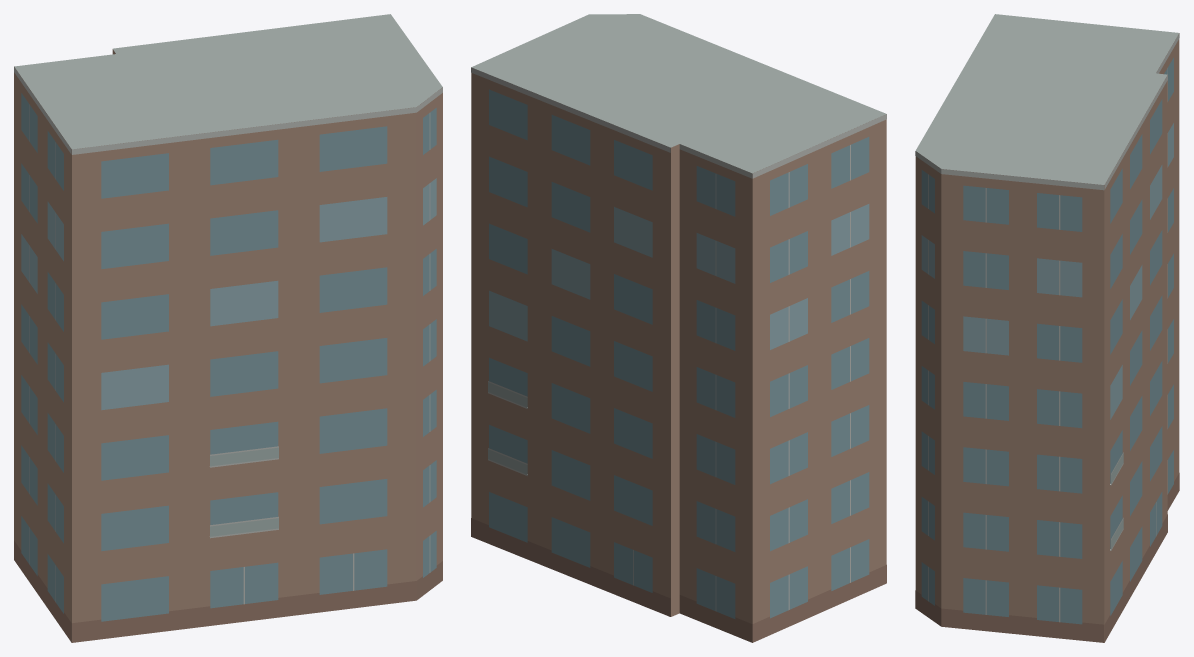
Rendered from survey-upis-32940148.glb.
3 views of the same model, side by side, from view 1: azimuth 30°, elevation 25°; view 2: azimuth 150°, elevation 25°; view 3: azimuth 270°, elevation 25° (orthographic). The views are drawn at different scales.
Parts seen in each view (by area): view 1: survey-upis-32940148.tmp; view 2: survey-upis-32940148.tmp; view 3: survey-upis-32940148.tmp.
Boxes of the visible parts, bbox=[...] form: survey-upis-32940148.tmp: bbox=[14, 14, 442, 642]; survey-upis-32940148.tmp: bbox=[471, 14, 886, 642]; survey-upis-32940148.tmp: bbox=[915, 14, 1179, 642].
Bounding box in the file's own units: 17.24 × 21.5 × 11.24.
